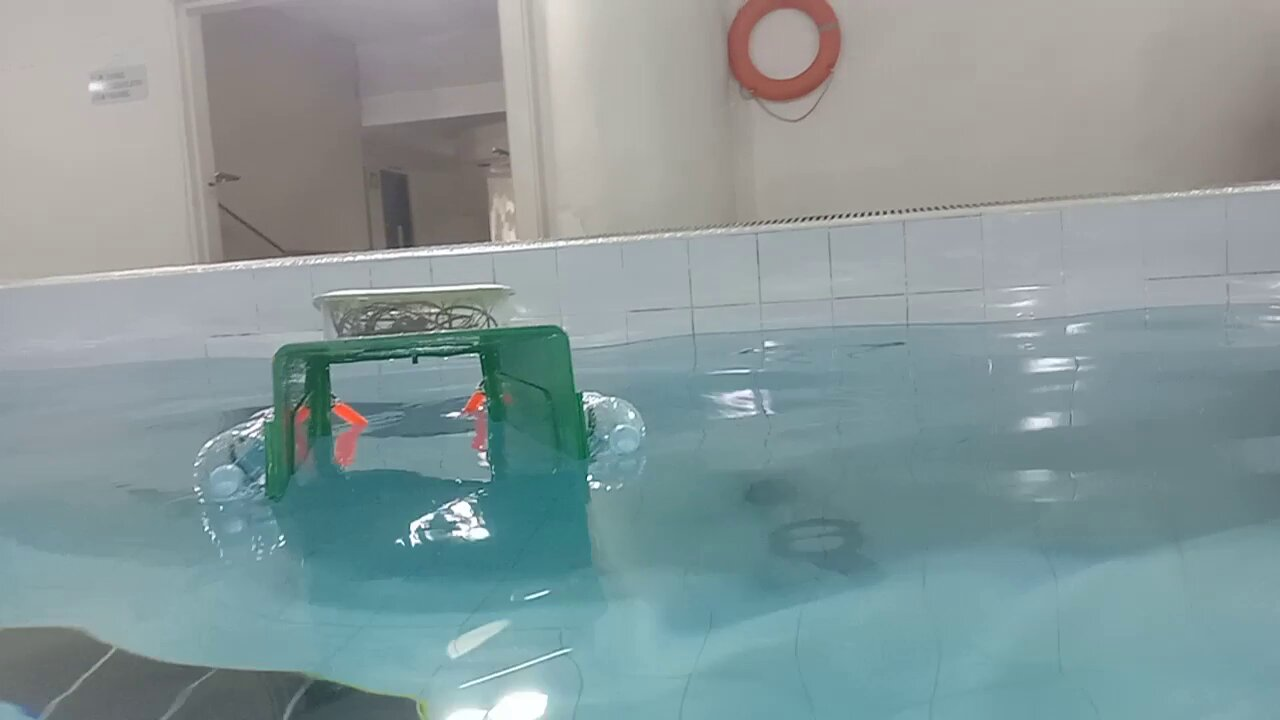drone: (189, 277, 651, 516)
